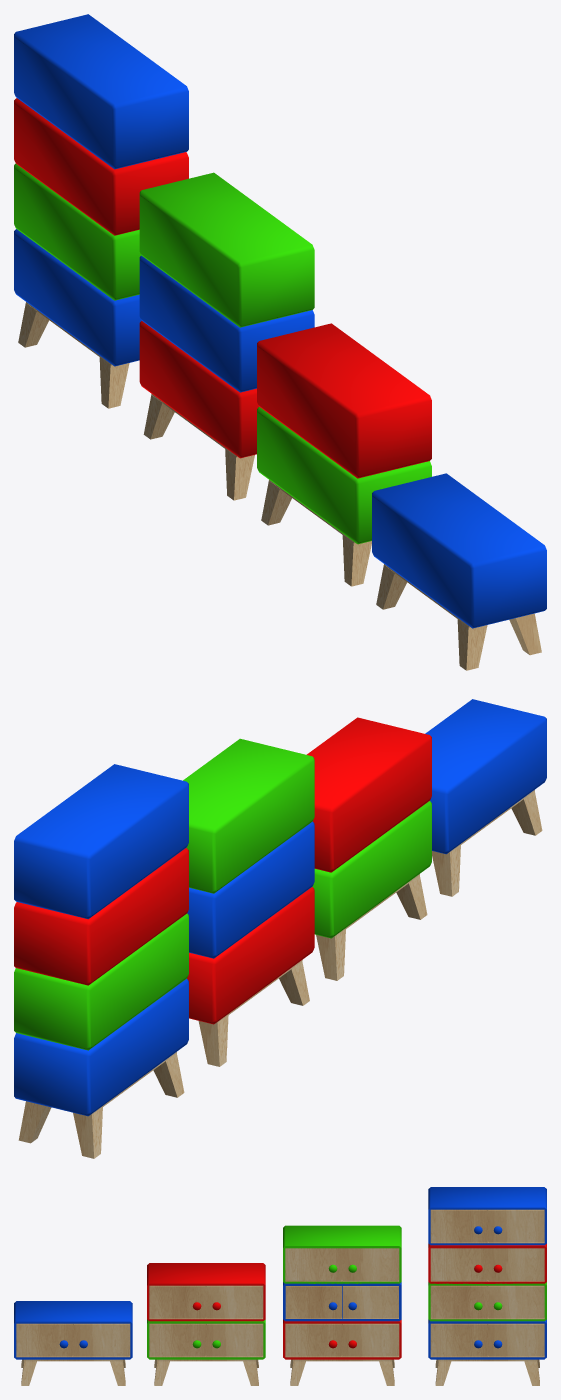
The model's file is Drawers.FBX.
The picture shows the model from 3 angles, top to bottom: view 1: azimuth 30°, elevation 25°; view 2: azimuth 150°, elevation 25°; view 3: azimuth 270°, elevation 25°; orthographic projection. The views are drawn at different scales.
Parts seen in each view (by area): view 1: Drawer4, Drawer3, Drawer2, Drawer1; view 2: Drawer4, Drawer3, Drawer2, Drawer1; view 3: Drawer4, Drawer3, Drawer2, Drawer1.
Part boxes in pixels (box(x1,y1,x2,y2)): Drawer4: box(14, 14, 188, 408); Drawer3: box(139, 172, 314, 500); Drawer2: box(257, 323, 431, 586); Drawer1: box(372, 473, 546, 670); Drawer4: box(14, 764, 188, 1158); Drawer3: box(183, 738, 314, 1066); Drawer2: box(306, 717, 431, 980); Drawer1: box(425, 699, 546, 896); Drawer4: box(428, 1187, 546, 1385); Drawer3: box(283, 1225, 401, 1385); Drawer2: box(147, 1263, 265, 1385); Drawer1: box(14, 1301, 132, 1385).
Bounding box in the file's own units: 21.83 × 77.39 × 210.
